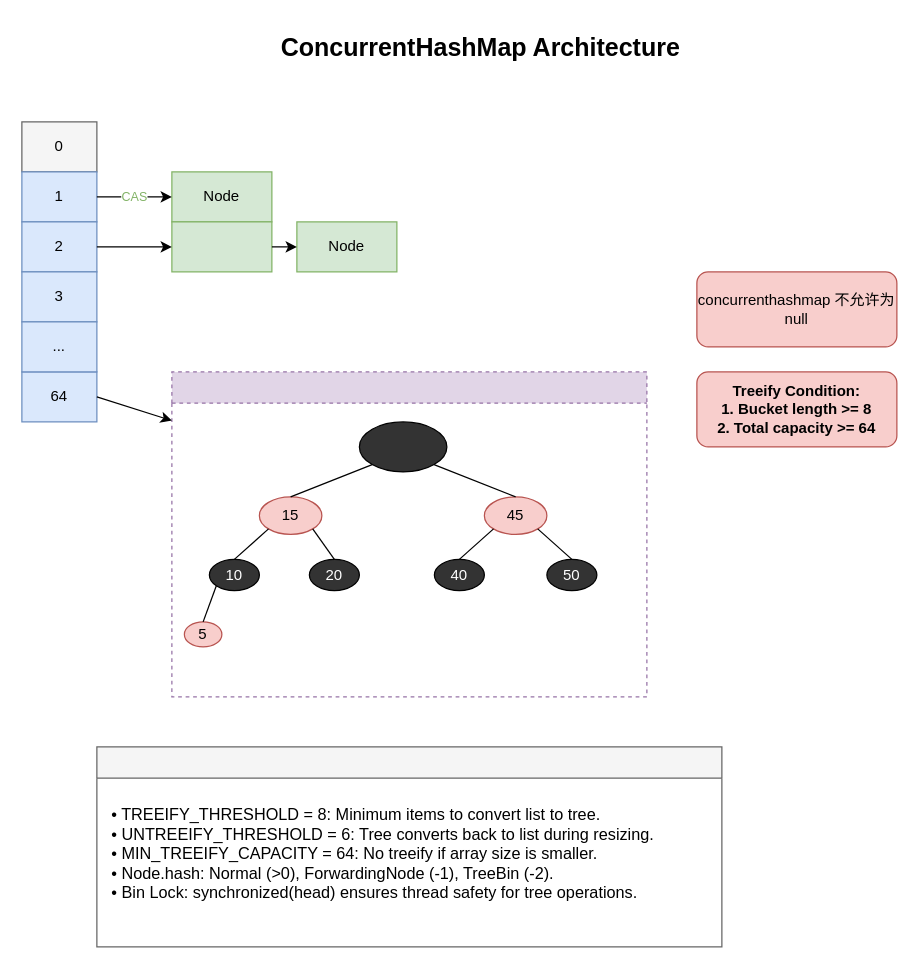
Image size: 919x969. Some labels were removed from this diagram. Here are the shapes that lost their labels. From the top down, the box of each, then its label:
(171, 221, 272, 272): Head (L)
(358, 421, 447, 472): Root (30)
(171, 371, 647, 697): TreeBin (Length >= 8)
(96, 746, 722, 947): Java 8 ConcurrentHashMap Summary
